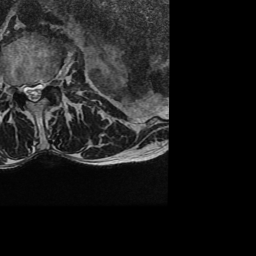CCS_normal: (30, 76, 38, 108)
LFS_stenosis: (45, 69, 53, 94)
LLS_stenosis: (38, 75, 45, 101)
RFS_normal: (13, 74, 22, 100)
RLS_normal: (22, 75, 31, 104)
